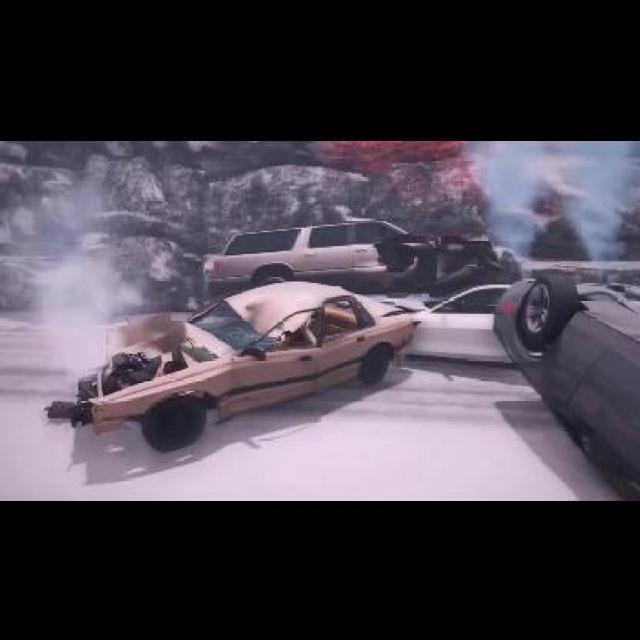accident: (40, 272, 532, 451)
